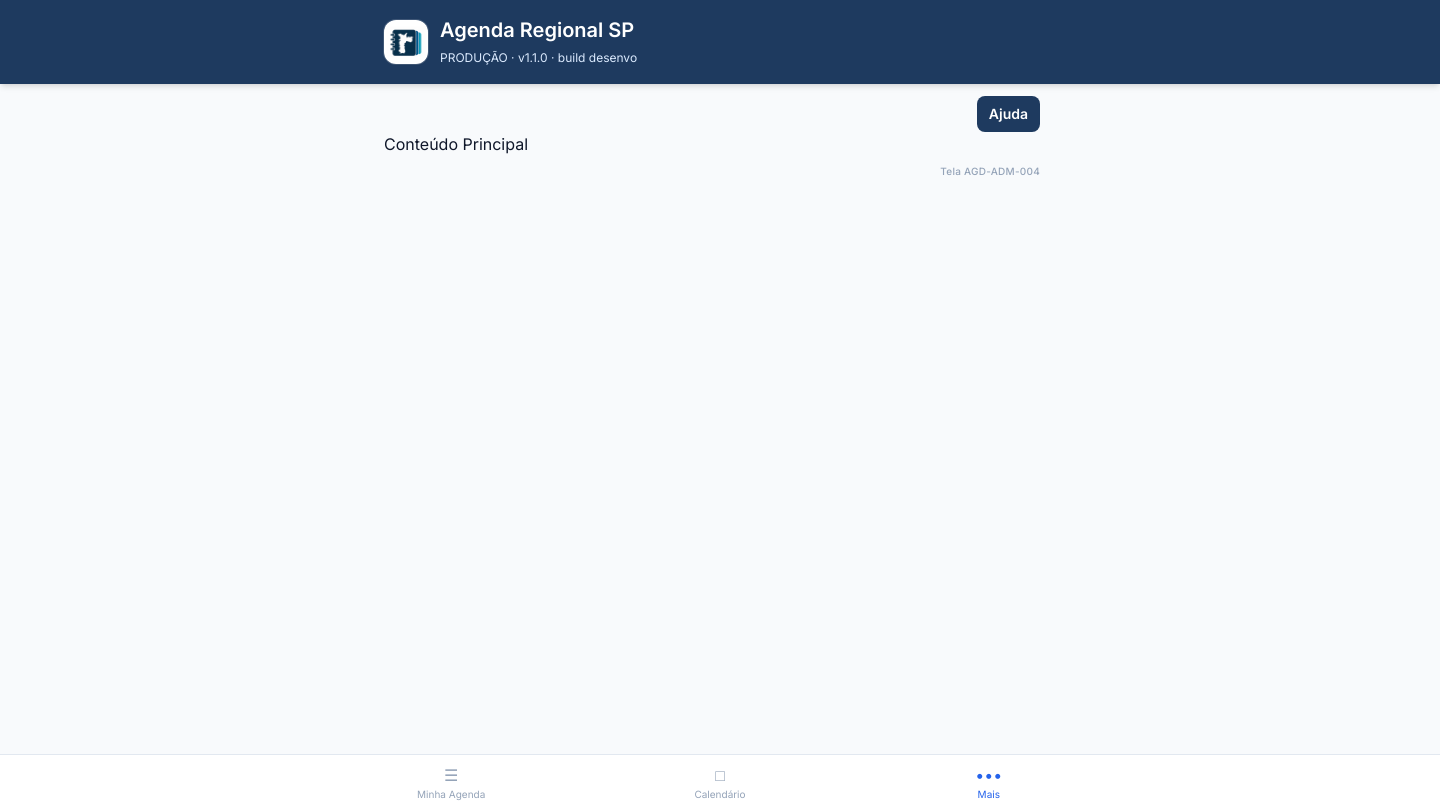
Test: Navegação e Visibilidade de Permissões — S12 Frontend › 4. AUDITOR_SISTEMA isolado vê Auditoria, mas NÃO vê Portaria nem Relatórios
Click the button "••• Mais": (989, 782) [922,755,1056,809]
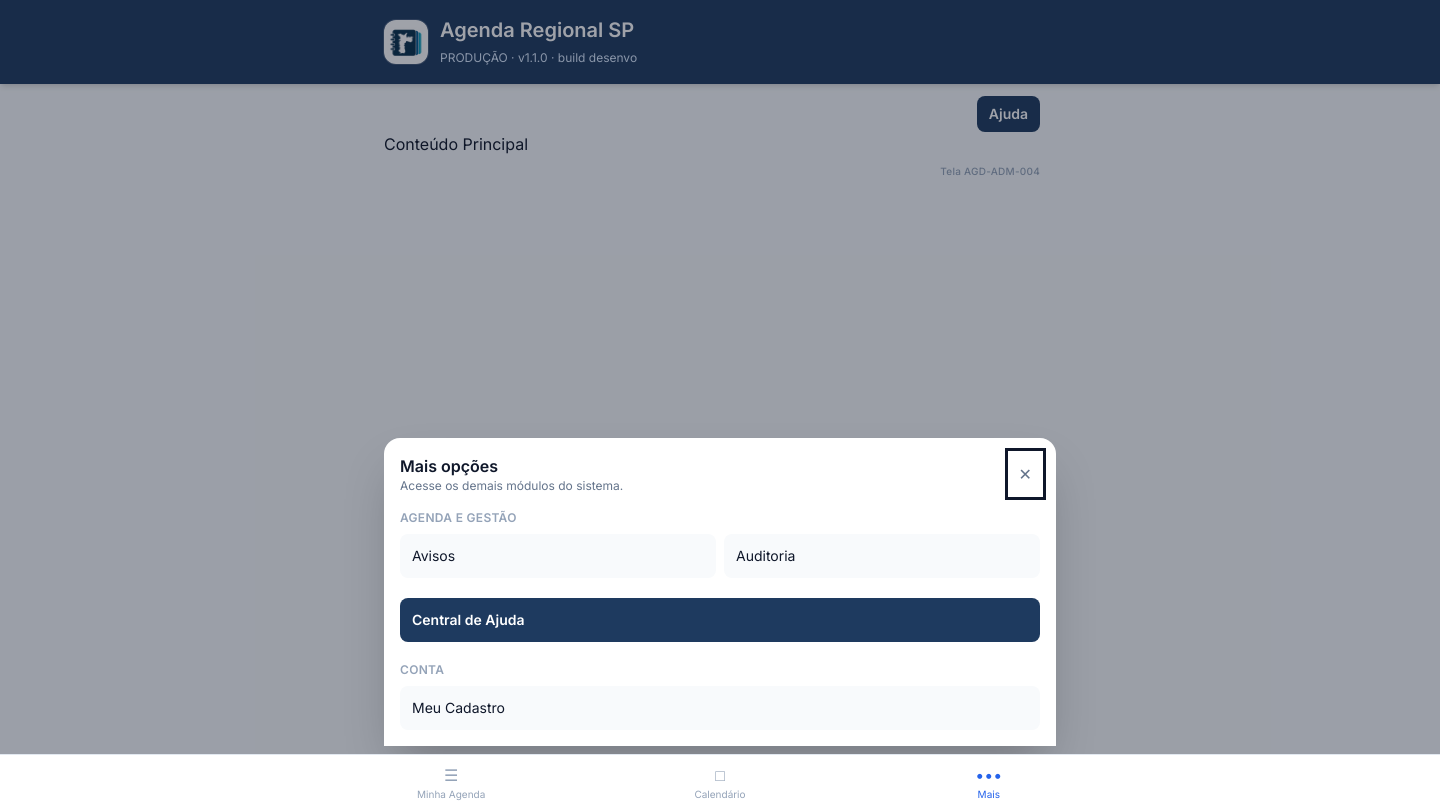
Expected: the button "Auditoria" is shown, [724,534,1040,578]
